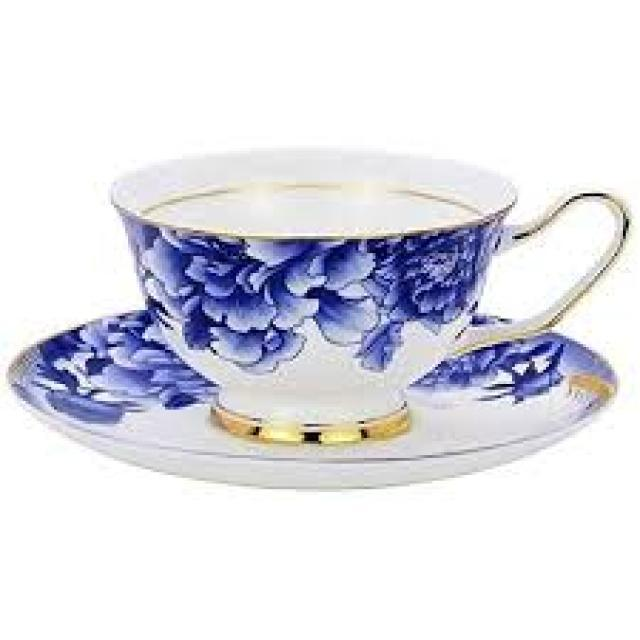taza: (89, 121, 632, 438)
